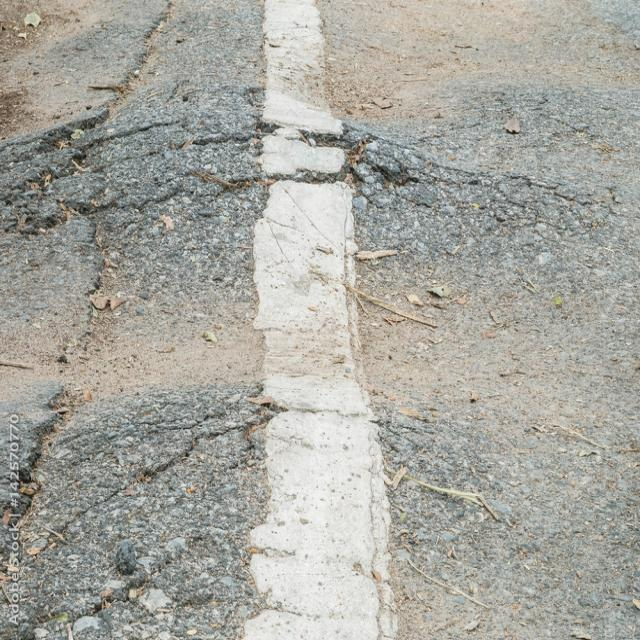Pothole: (14, 97, 382, 640)
